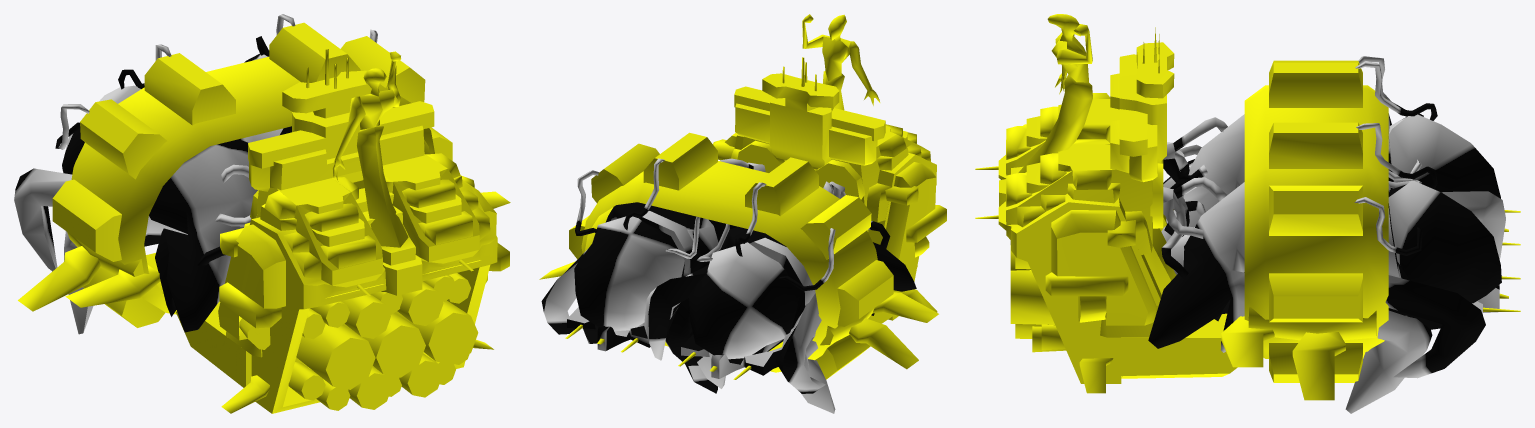
Rendered from sibelon_emperor.obj.
3 views of the same model, side by side, from view 1: azimuth 30°, elevation 25°; view 2: azimuth 150°, elevation 25°; view 3: azimuth 270°, elevation 25° (orthographic). The views are drawn at different scales.
Visible parts, largest first — view 1: emperor_sibelon_copy, emperor_sibelon_alien_vertex_animation; view 2: emperor_sibelon_copy, emperor_sibelon_alien_vertex_animation; view 3: emperor_sibelon_copy, emperor_sibelon_alien_vertex_animation.
Boxes of the visible parts, <box> form: emperor_sibelon_copy: <box>18,22,510,413</box>; emperor_sibelon_alien_vertex_animation: <box>14,14,377,334</box>; emperor_sibelon_copy: <box>539,14,946,379</box>; emperor_sibelon_alien_vertex_animation: <box>541,158,916,413</box>; emperor_sibelon_copy: <box>975,14,1520,400</box>; emperor_sibelon_alien_vertex_animation: <box>1148,56,1505,413</box>.
Size of the model in its own units: 184 by 138 by 195.
2 materials, 1 textured.
